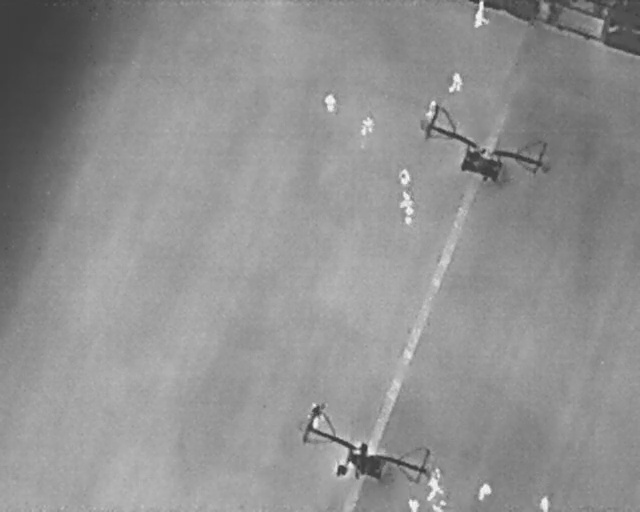Person: (424, 468, 444, 500), (472, 1, 490, 29), (475, 480, 495, 504), (424, 97, 441, 122), (308, 403, 323, 429), (449, 70, 463, 94), (323, 92, 337, 114), (361, 115, 375, 137), (397, 166, 411, 187), (400, 189, 414, 208), (403, 205, 414, 226), (430, 499, 447, 510), (539, 494, 550, 511), (406, 497, 420, 510)
